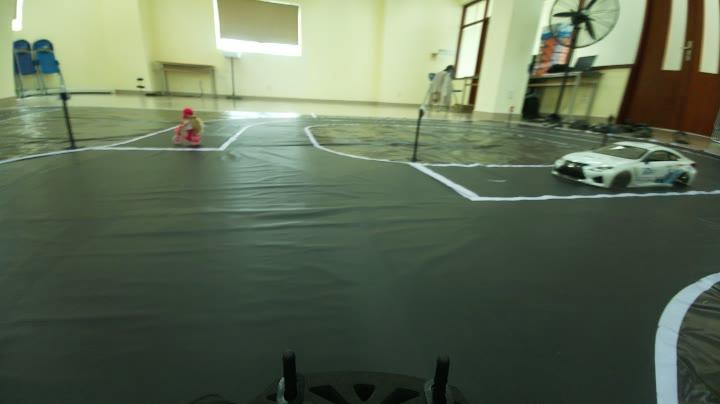car: (554, 141, 705, 190)
